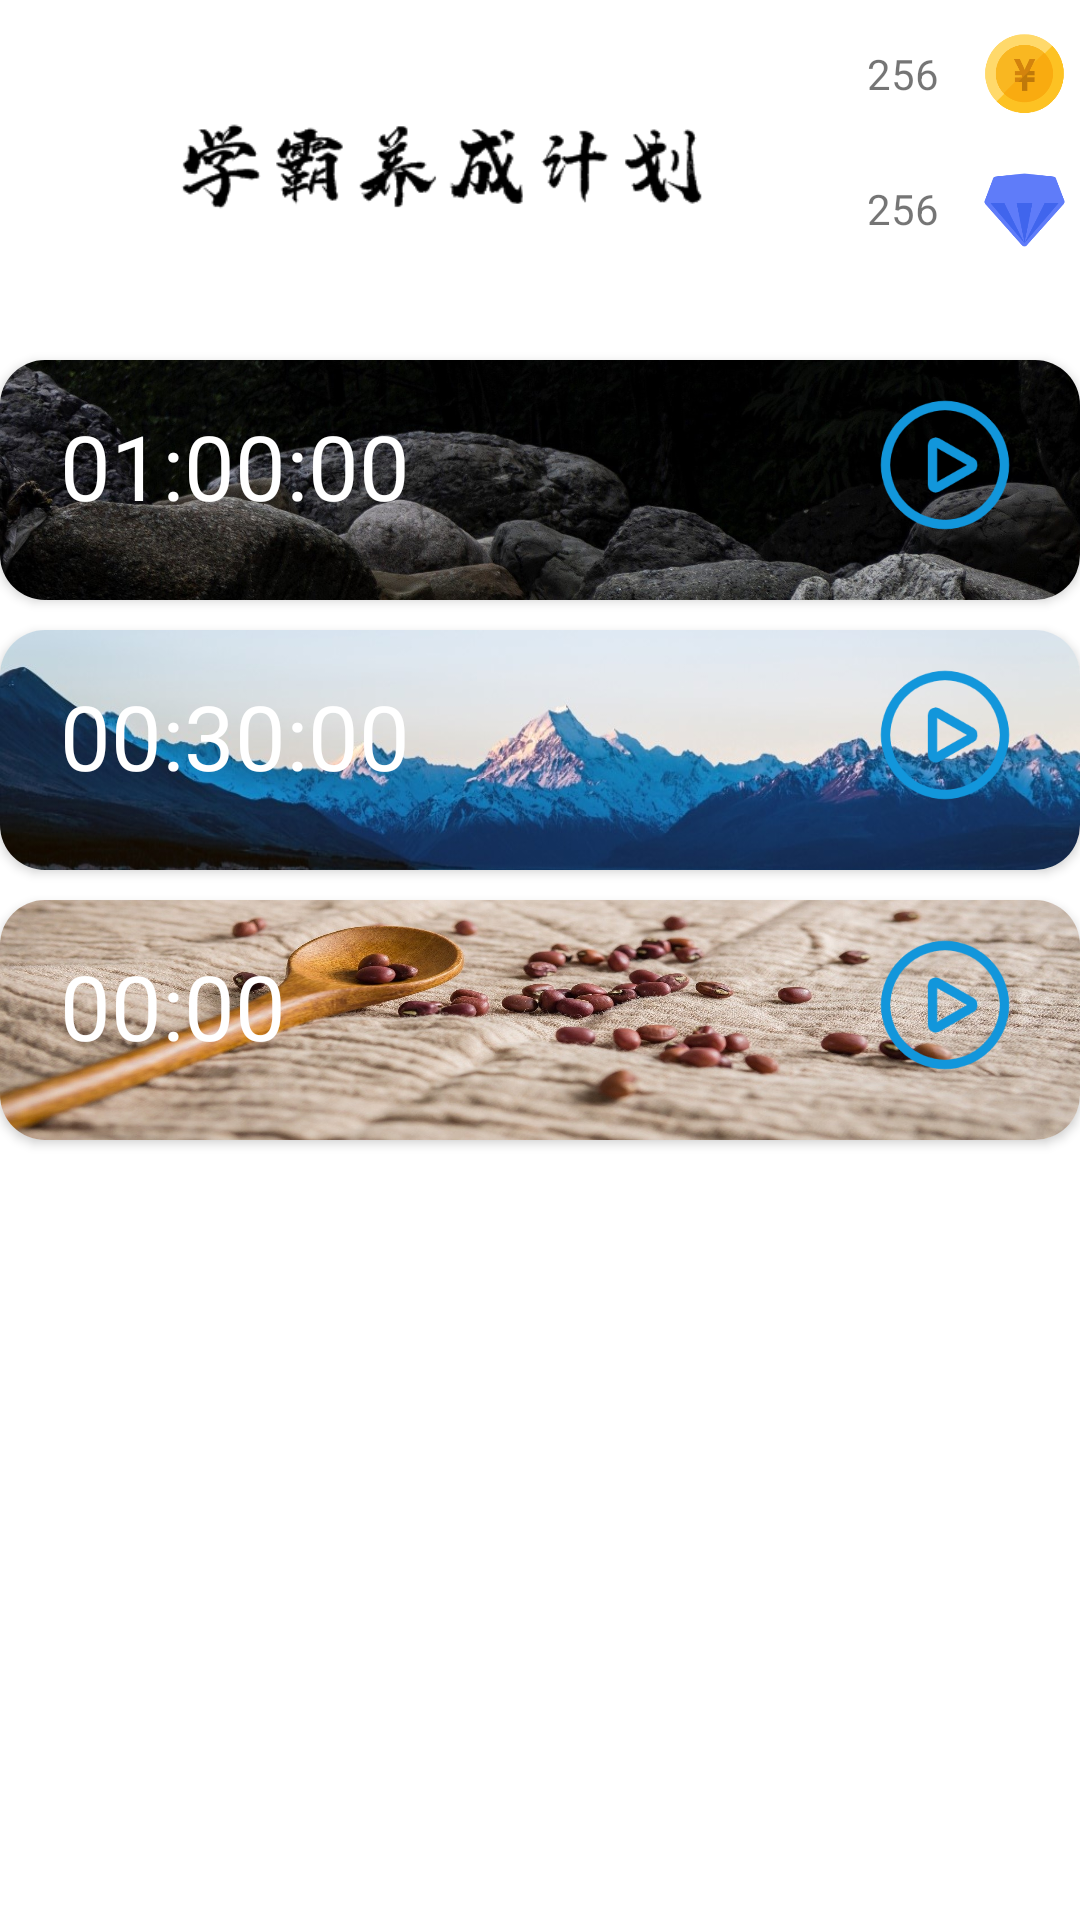

Named icons in this screenshot (1080 × 1920) and their centers, [x,y]:
coin: [1024,73]
play: [950,470], [945,735], [945,1005]
zuanshi: [1024,210]
